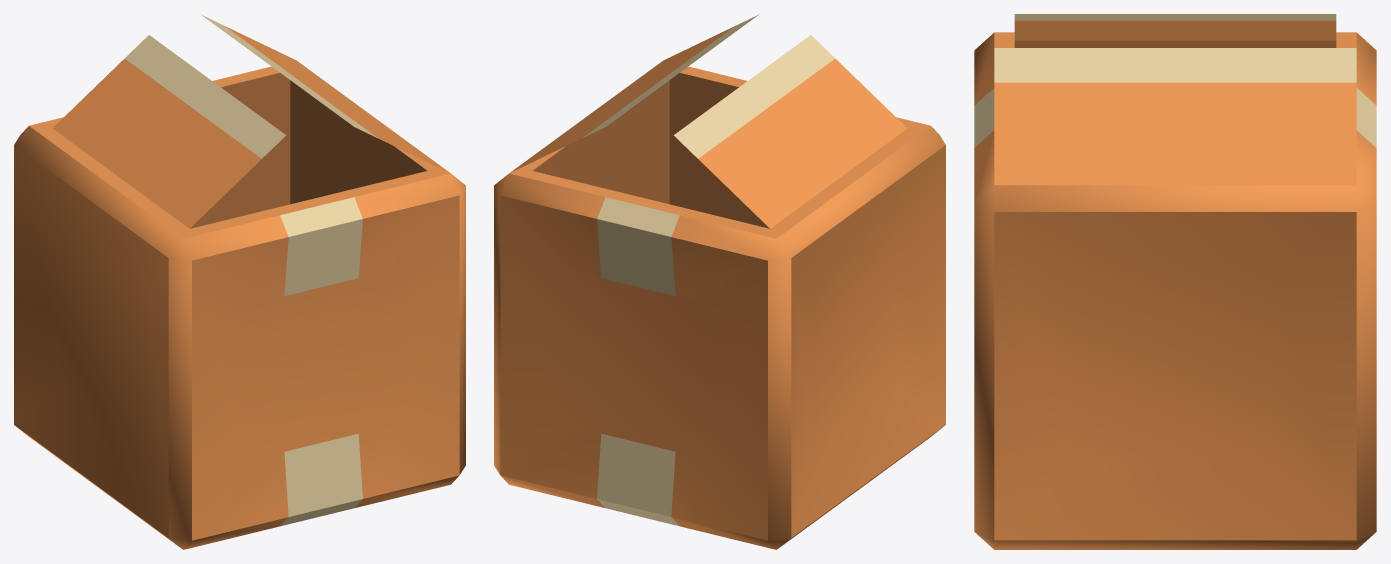
The model's file is boxOpen-transformed.glb.
3 renders of one model, left to right at view 1: azimuth 30°, elevation 25°; view 2: azimuth 150°, elevation 25°; view 3: azimuth 270°, elevation 25°, orthographic. The views are drawn at different scales.
Parts seen in each view (by area): view 1: boxOpen; view 2: boxOpen; view 3: boxOpen.
Part boxes in pixels (left/top/right/bottom): boxOpen: left=14, top=14, right=465, bottom=549; boxOpen: left=494, top=14, right=945, bottom=549; boxOpen: left=974, top=14, right=1376, bottom=549.
Size of the model in its own units: 0.25 by 0.3063 by 0.25.
